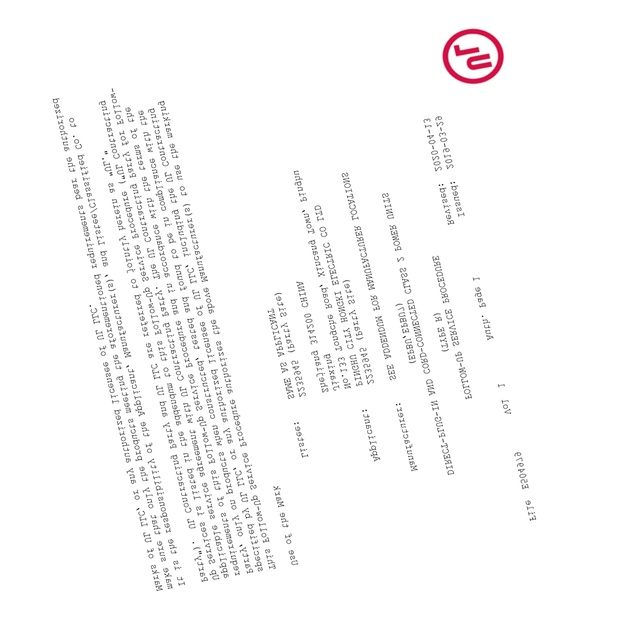ul: (443, 27, 506, 84)
